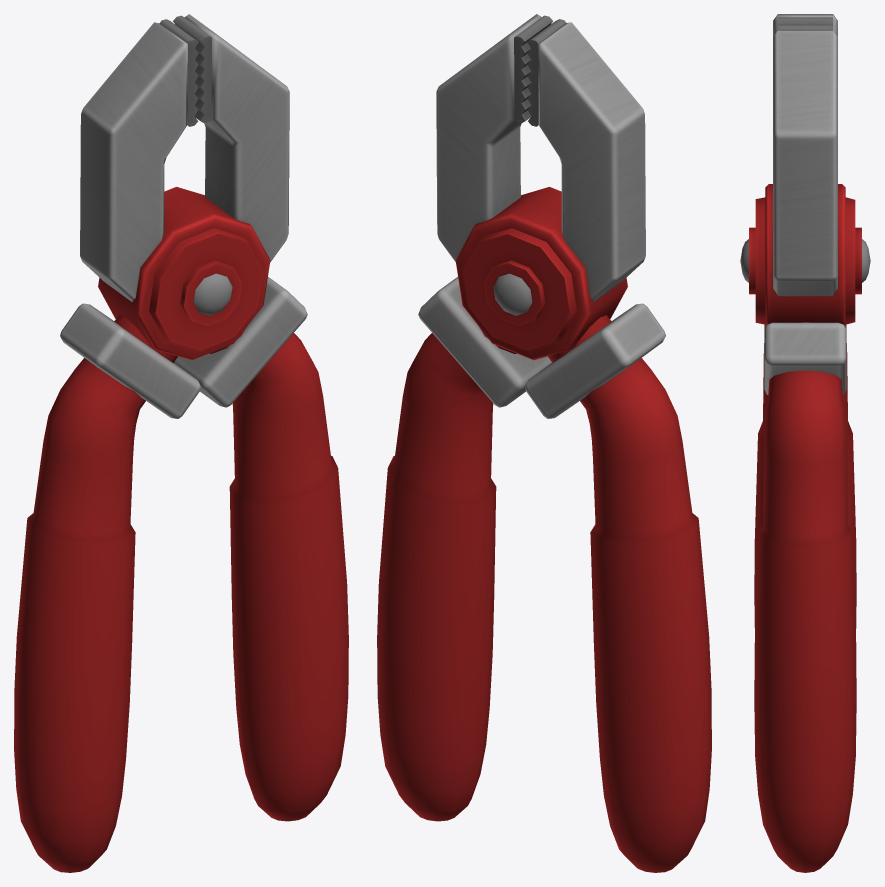
Rendered from pliers_red.fbx.
The picture shows the model from 3 angles, left to right: view 1: azimuth 30°, elevation 25°; view 2: azimuth 150°, elevation 25°; view 3: azimuth 270°, elevation 25°; orthographic projection. The views are drawn at different scales.
Visible parts, largest first — view 1: polySurface22.002; view 2: polySurface22.002; view 3: polySurface22.002.
Part boxes in pixels (x1,y1,x2,y2): polySurface22.002: (14, 14, 348, 872); polySurface22.002: (377, 14, 711, 872); polySurface22.002: (740, 14, 870, 872).
Bounding box in the file's own units: 0.4495 × 1.09 × 0.1608.
